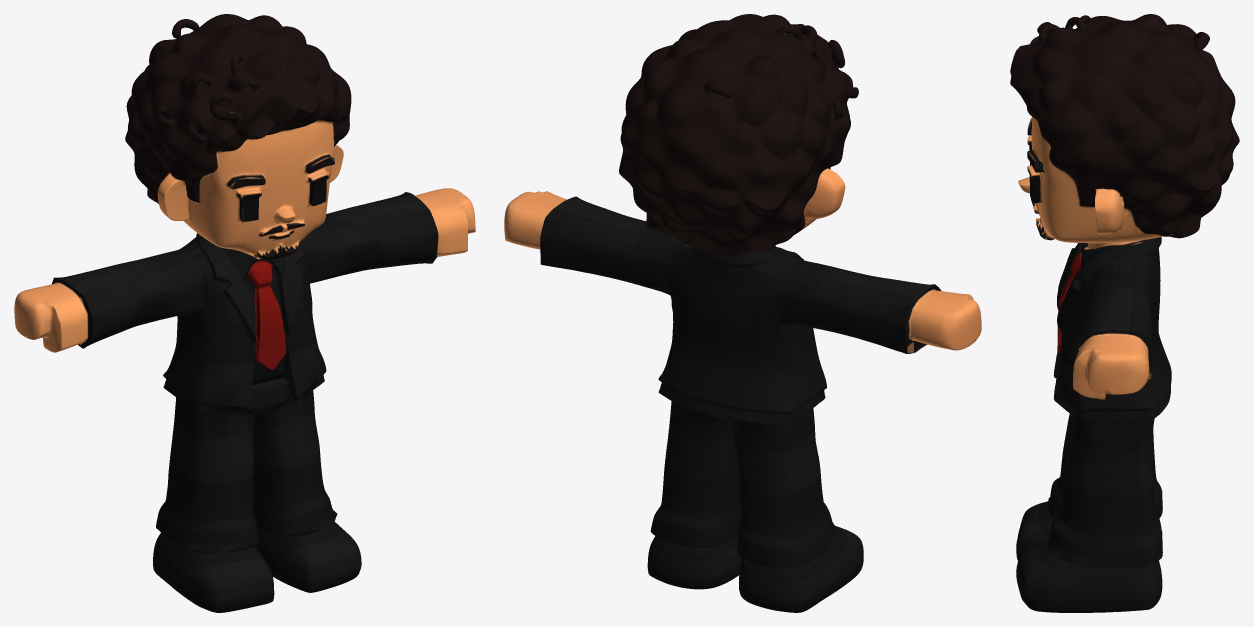
Rendered from killer.glb.
The picture shows the model from 3 angles, left to right: view 1: azimuth 30°, elevation 25°; view 2: azimuth 150°, elevation 25°; view 3: azimuth 270°, elevation 25°; orthographic projection. The views are drawn at different scales.
Size of the model in its own units: 1.65 by 1.9 by 0.7156.
Materials: 1 (1 with a texture image).
